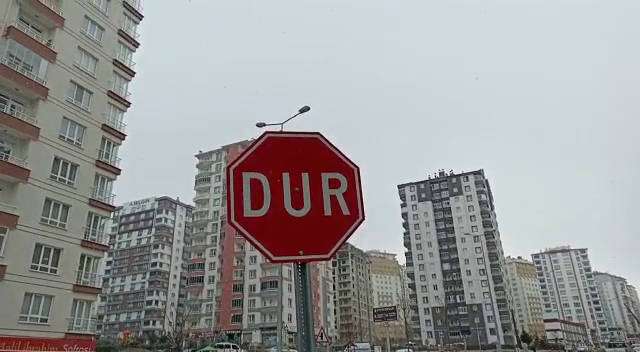stop: (222, 127, 371, 267)
